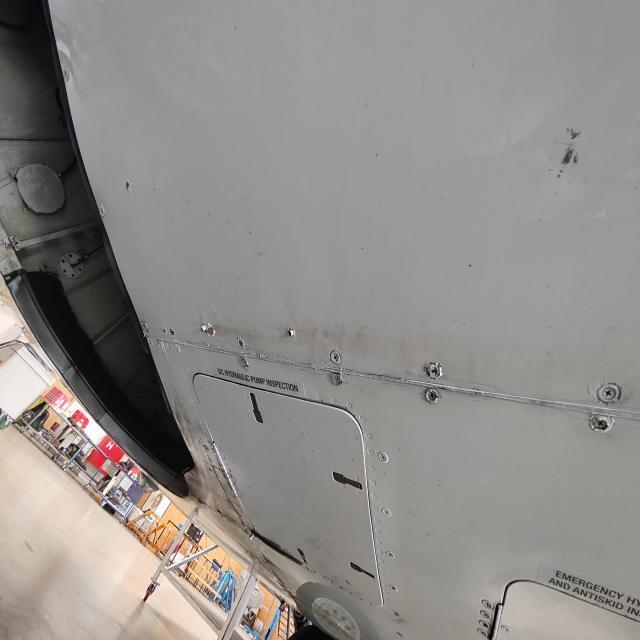dent: (40, 30, 104, 121)
